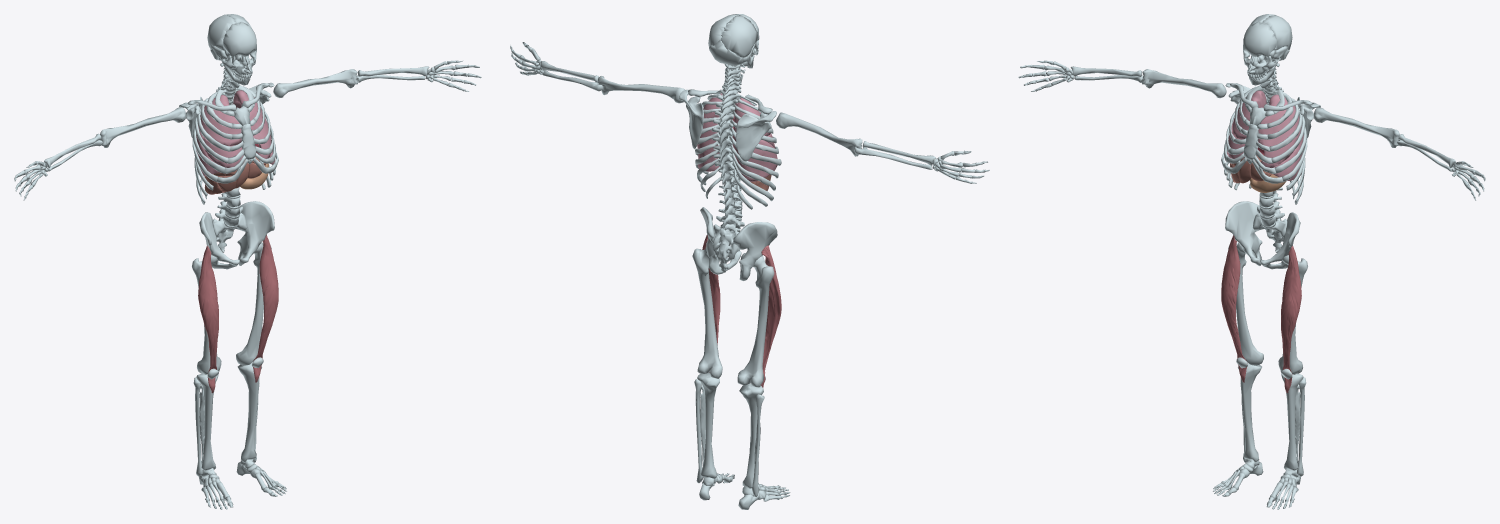
File: anatomy.glb
3 views of the same model, side by side, from view 1: azimuth 30°, elevation 25°; view 2: azimuth 150°, elevation 25°; view 3: azimuth 330°, elevation 25° (orthographic). The views are drawn at different scales.
Visible parts, largest first — view 1: Skeleton, Quadriceps_right, Quadriceps_left, Lung_right, Liver, Lung_left; view 2: Skeleton, Quadriceps_right, Lung_right, Lung_left, Quadriceps_left; view 3: Skeleton, Quadriceps_left, Quadriceps_right, Lung_left, Lung_right.
Boxes of the visible parts, bbox=[...] form: Skeleton: bbox=[14, 14, 481, 509]; Quadriceps_right: bbox=[198, 246, 218, 393]; Quadriceps_left: bbox=[253, 235, 278, 382]; Lung_right: bbox=[196, 95, 243, 176]; Liver: bbox=[204, 157, 265, 194]; Lung_left: bbox=[232, 90, 275, 164]; Skeleton: bbox=[510, 14, 989, 509]; Quadriceps_right: bbox=[761, 245, 781, 387]; Lung_right: bbox=[732, 98, 777, 181]; Lung_left: bbox=[697, 93, 737, 171]; Quadriceps_left: bbox=[702, 235, 720, 372]; Skeleton: bbox=[1018, 14, 1485, 509]; Quadriceps_left: bbox=[1281, 246, 1301, 393]; Quadriceps_right: bbox=[1221, 235, 1247, 382]; Lung_left: bbox=[1258, 94, 1303, 180]; Lung_right: bbox=[1227, 90, 1267, 158].
Bounding box in the file's own units: 2.08 × 2 × 0.2948.
